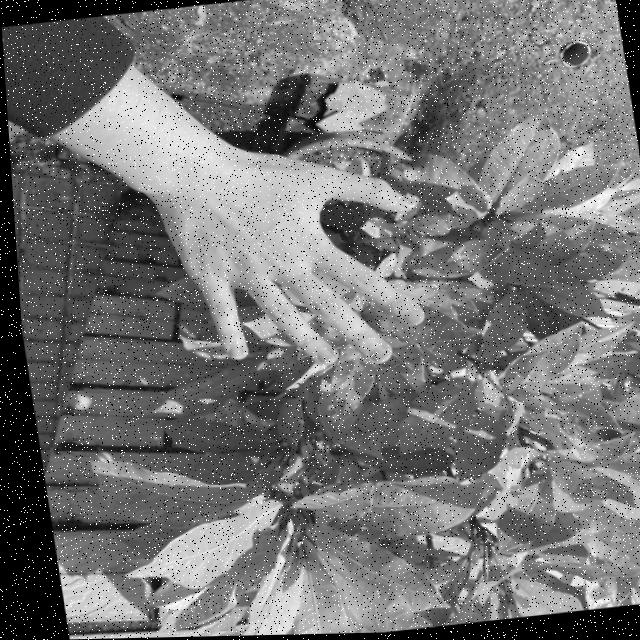hand: (153, 139, 439, 388)
